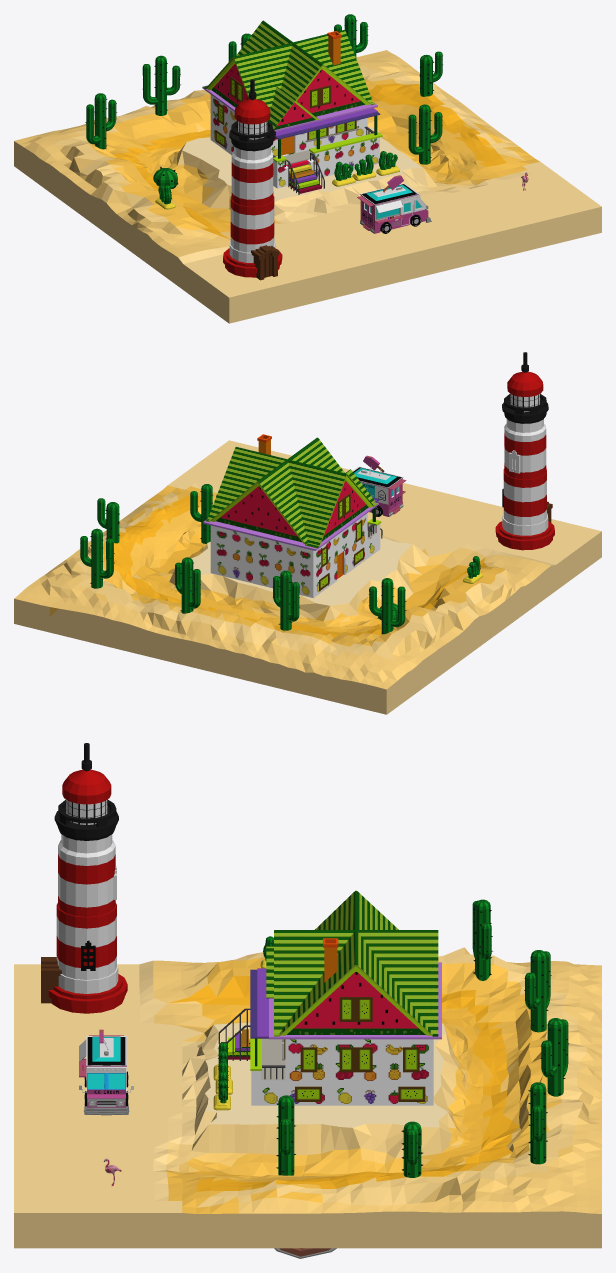
The picture shows the model from 3 angles, top to bottom: view 1: azimuth 30°, elevation 25°; view 2: azimuth 150°, elevation 25°; view 3: azimuth 270°, elevation 25°; orthographic projection. The views are drawn at different scales.
Parts seen in each view (by area): view 1: Cube.001, Cube.1063, OBJRANDOM_LIGHTHOUSE, VEHICLES_ICE_CREAM_TRUCK, Cylinder.044, Cylinder.037, Cylinder.045, Cylinder.038, Cylinder.042, Cylinder.041, Cylinder.039; view 2: Cube.001, Cube.1063, OBJRANDOM_LIGHTHOUSE, VEHICLES_ICE_CREAM_TRUCK, Cylinder.045, Cylinder.042, Cylinder.044, Cylinder.043, Cylinder.037, Cylinder.038; view 3: Cube.001, Cube.1063, OBJRANDOM_LIGHTHOUSE, VEHICLES_ICE_CREAM_TRUCK, Cylinder.043, Cylinder.044, Cylinder.045, Cylinder.042, Cylinder.037, Cylinder.038.
Boxes of the visible parts, box(x1,y1,x2,y2) form: Cube.001: box(14, 50, 601, 323); Cube.1063: box(202, 20, 382, 194); OBJRANDOM_LIGHTHOUSE: box(223, 79, 282, 280); VEHICLES_ICE_CREAM_TRUCK: box(357, 175, 431, 233); Cylinder.044: box(142, 55, 180, 115); Cylinder.037: box(408, 104, 442, 164); Cylinder.045: box(85, 93, 116, 149); Cylinder.038: box(419, 51, 442, 96); Cylinder.042: box(334, 14, 368, 57); Cylinder.041: box(376, 151, 399, 175); Cylinder.039: box(332, 161, 355, 186); Cube.001: box(14, 440, 601, 714); Cube.1063: box(203, 434, 382, 598); OBJRANDOM_LIGHTHOUSE: box(495, 352, 554, 550); VEHICLES_ICE_CREAM_TRUCK: box(352, 455, 406, 516); Cylinder.045: box(369, 578, 406, 634); Cylinder.042: box(80, 528, 114, 588); Cylinder.044: box(273, 570, 299, 630); Cylinder.043: box(175, 557, 200, 613); Cylinder.037: box(190, 484, 216, 543); Cylinder.038: box(97, 498, 119, 543); Cube.001: box(14, 947, 601, 1248); Cube.1063: box(218, 890, 441, 1105); OBJRANDOM_LIGHTHOUSE: box(41, 743, 127, 1013); VEHICLES_ICE_CREAM_TRUCK: box(79, 1029, 133, 1115); Cylinder.043: box(540, 1018, 568, 1096); Cylinder.044: box(524, 950, 551, 1032); Cylinder.045: box(472, 899, 492, 980); Cylinder.042: box(528, 1082, 547, 1164); Cylinder.037: box(276, 1095, 295, 1175); Cylinder.038: box(401, 1121, 422, 1177).
Bounding box in the file's own units: 4002 × 2966 × 4001.
Materials: 47 (4 with a texture image).
